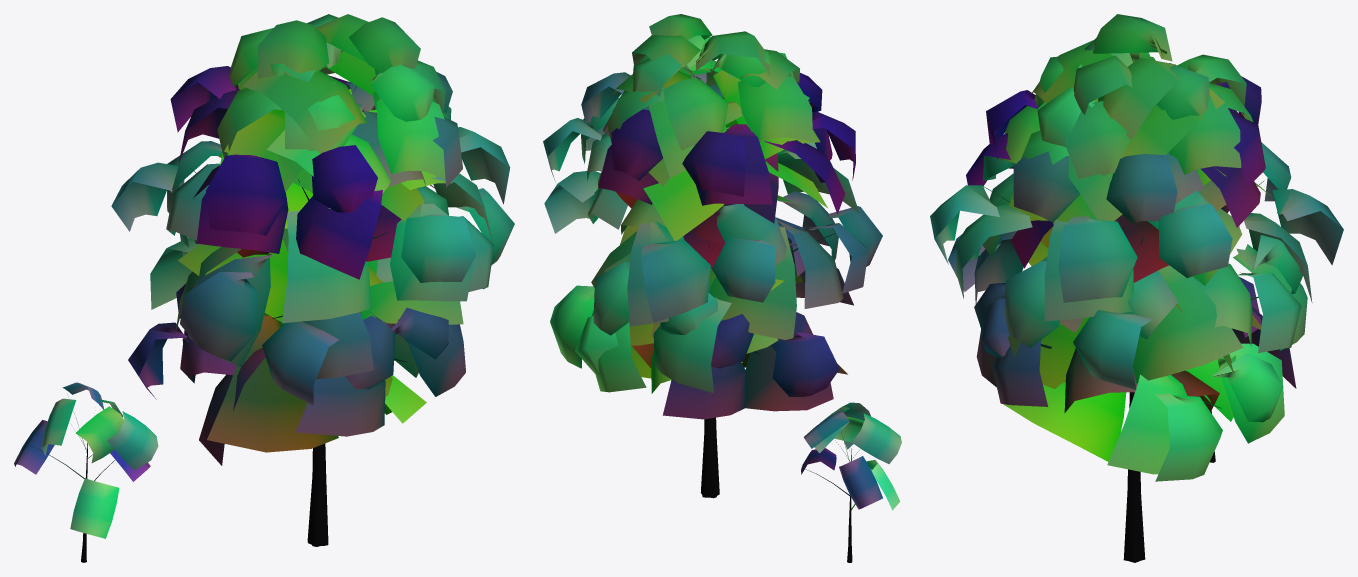
Rendered from Trees.fbx.
3 views of the same model, side by side, from view 1: azimuth 30°, elevation 25°; view 2: azimuth 150°, elevation 25°; view 3: azimuth 270°, elevation 25° (orthographic). The views are drawn at different scales.
Parts seen in each view (by area): view 1: tree1, tree2; view 2: tree1, tree2; view 3: tree1.
Part boxes in pixels (x1,y1,x2,y2): tree1: (111, 14, 514, 546); tree2: (14, 382, 158, 562); tree1: (543, 14, 882, 498); tree2: (801, 402, 901, 562); tree1: (930, 14, 1343, 562).
Size of the model in its own units: 947 by 1081 by 772.
